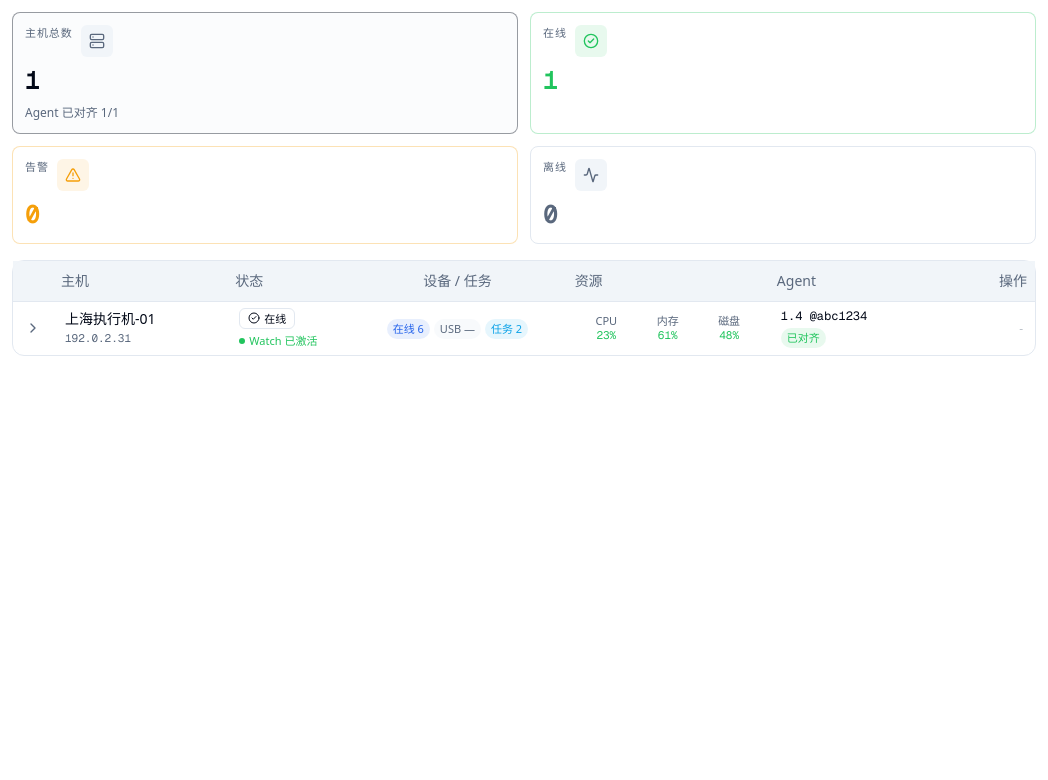
ExpandableHostTable › shows deployment time with full date in expanded Agent section
Step 1. Click the text "上海执行机-01" → (110, 319), box [65,309,156,328]
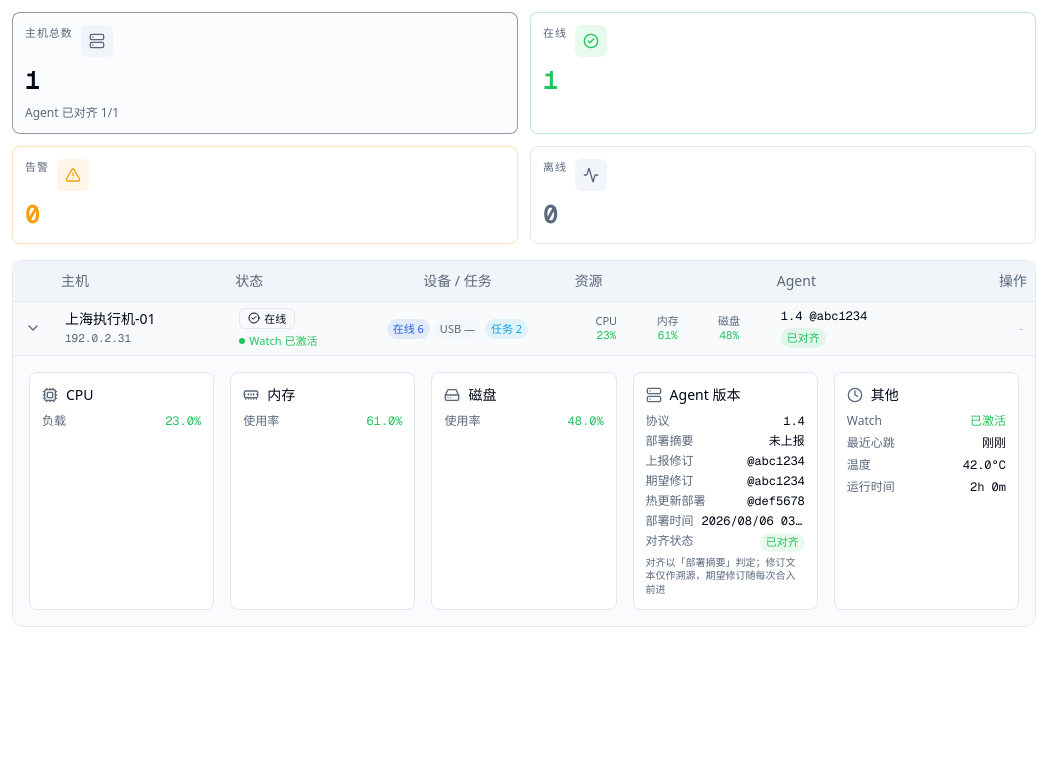
Now the text "部署时间" is shown, box [646,513,694,529]
